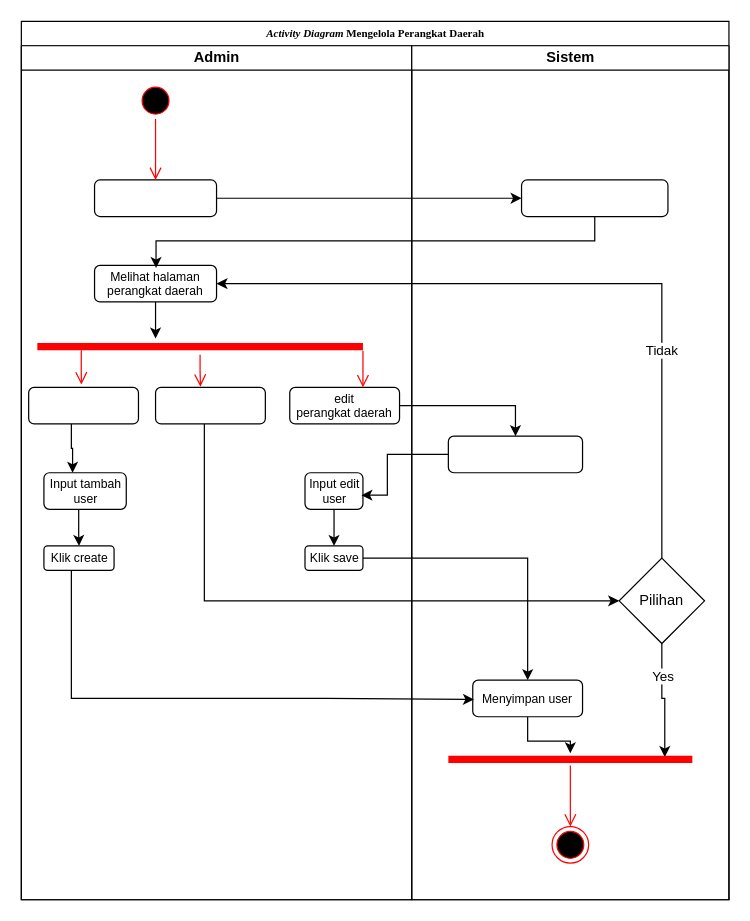
The diagram is 750 pixels wide and 921 high, and some of its shapes have lost their labels. Here are the shapes that lost their labels. From the top down, the centre of each, then its label:
point 155,198: Pilih Menu perangkat daerah
point 594,198: Menampilkan halaman perangkat daerah
point 82,405: tambah Perangkat Daerah
point 209,405: hapus Perangkat Daerah
point 515,454: Menampilkan halaman edit user
